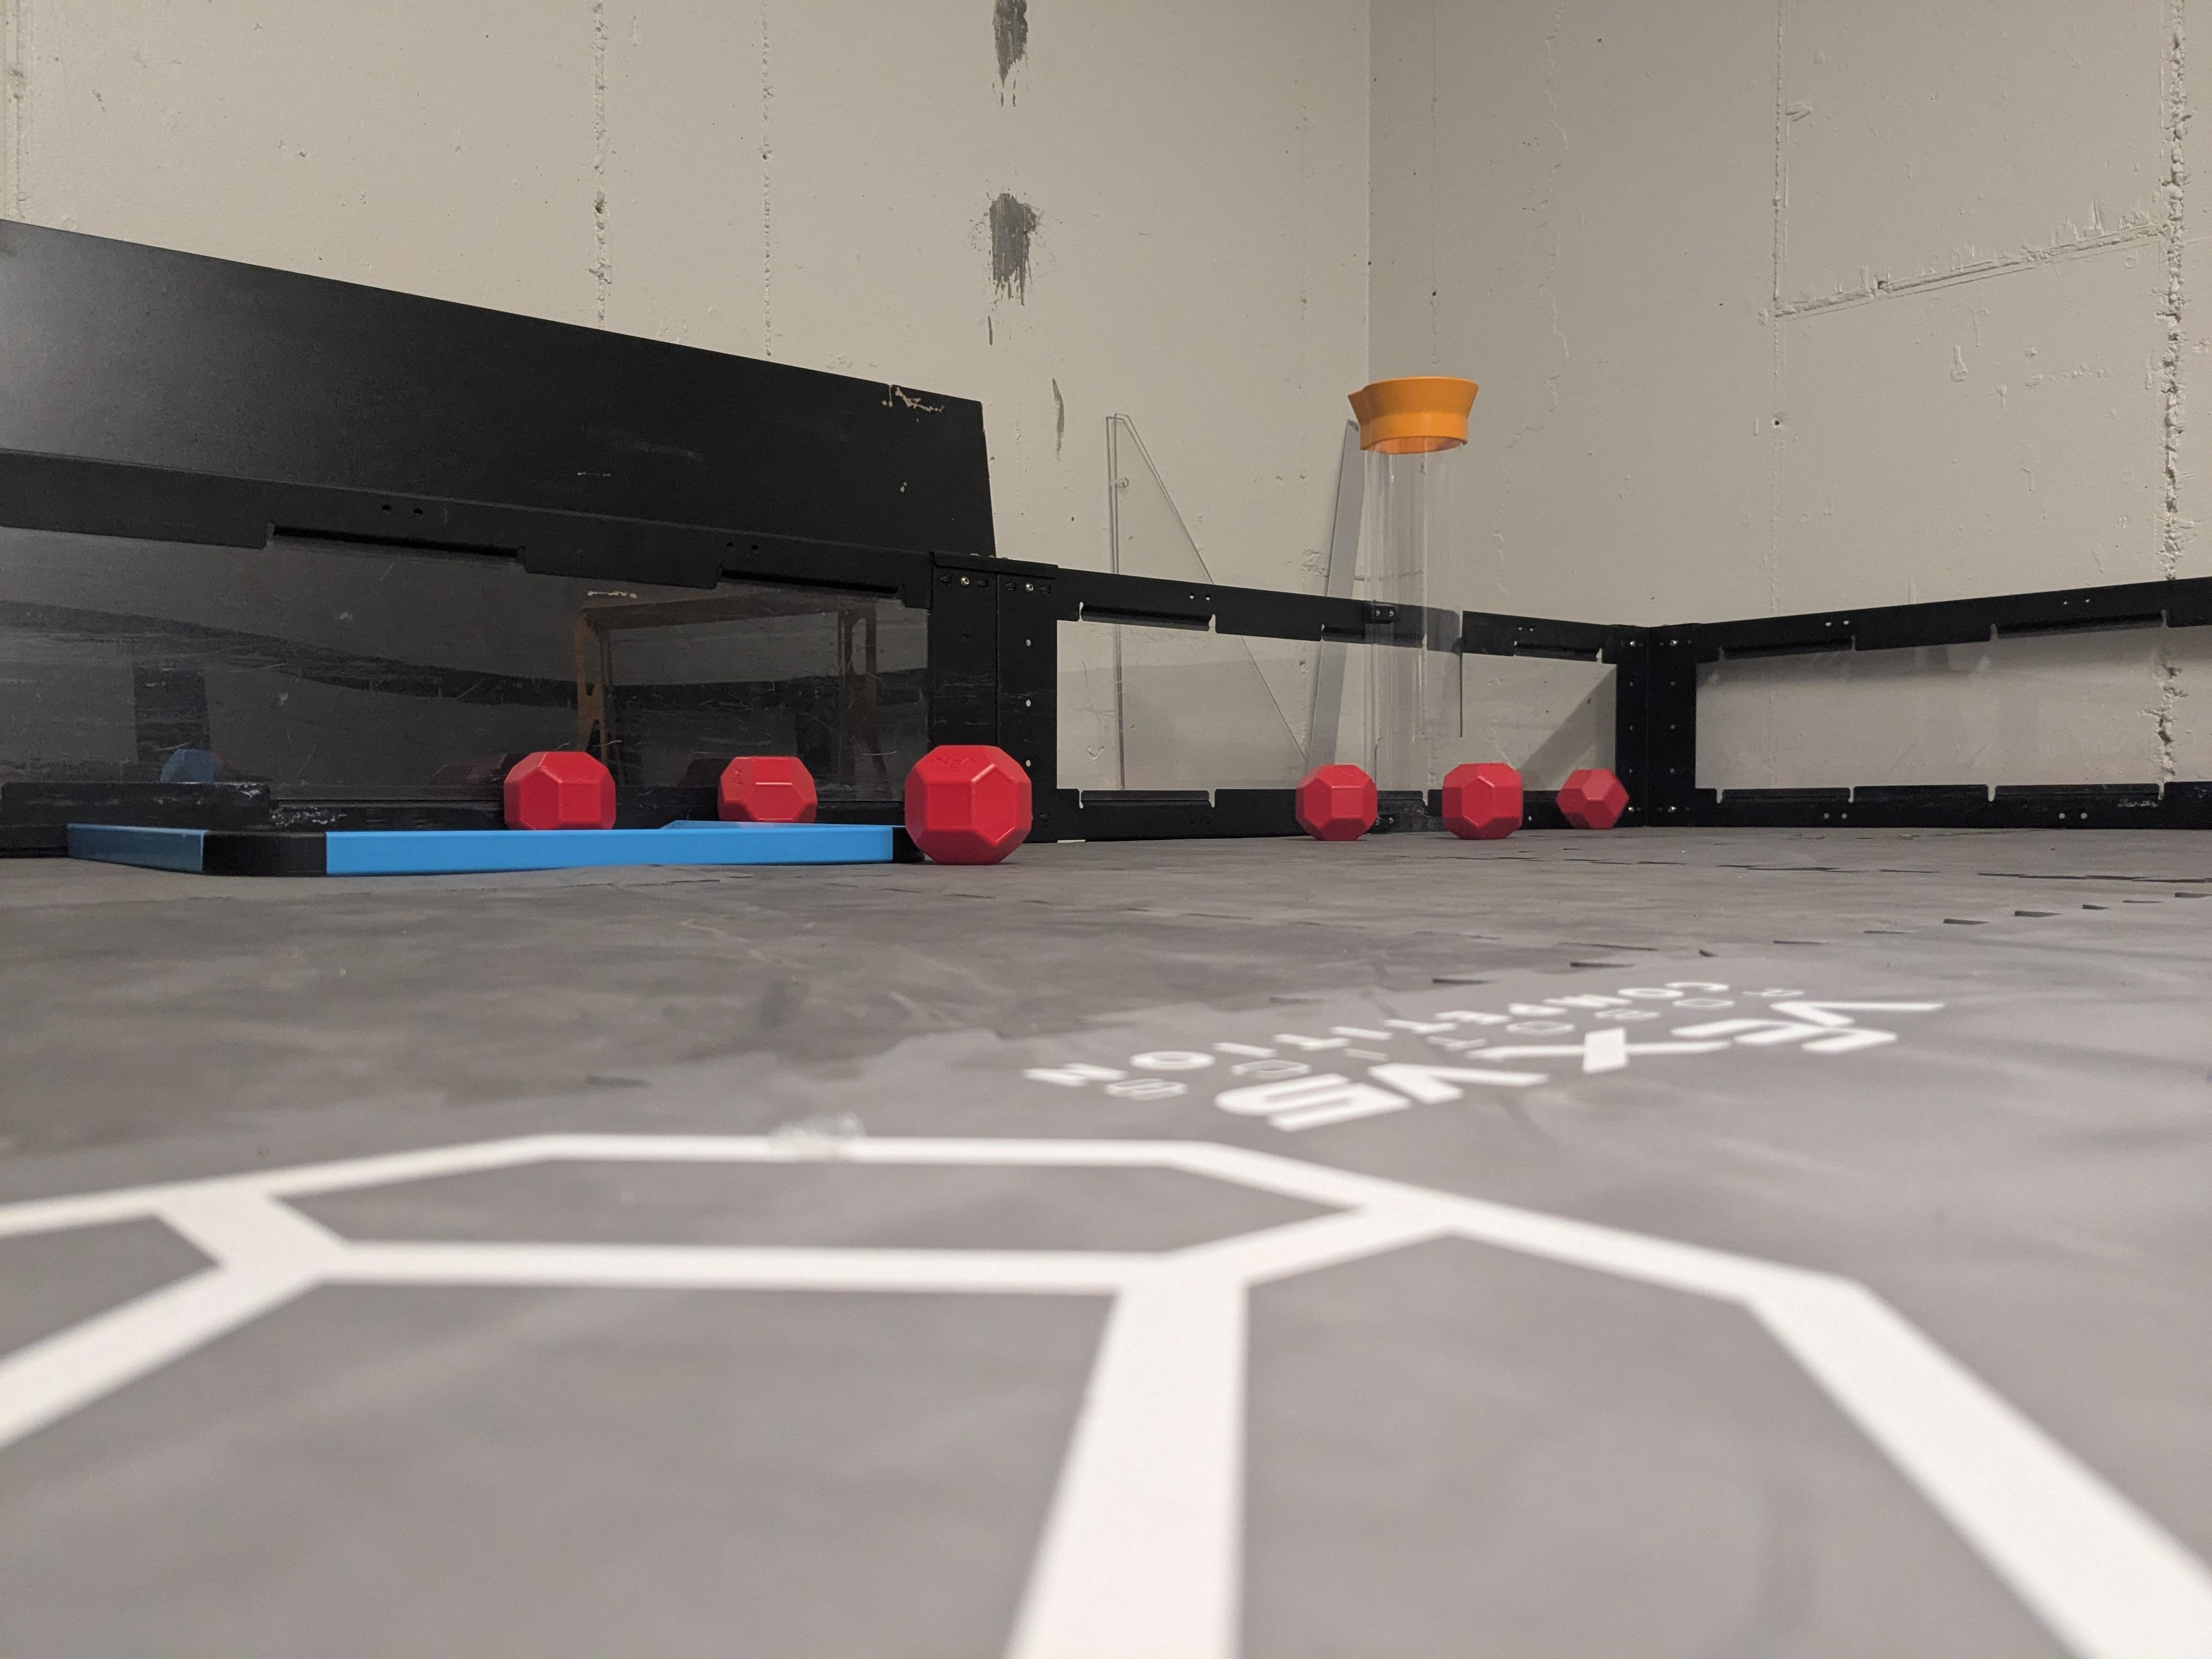Vex-Pieces-RED: (904, 746, 1031, 864), (503, 751, 615, 830), (718, 756, 817, 823), (1294, 765, 1378, 840), (1440, 763, 1522, 838), (1555, 769, 1629, 830)
